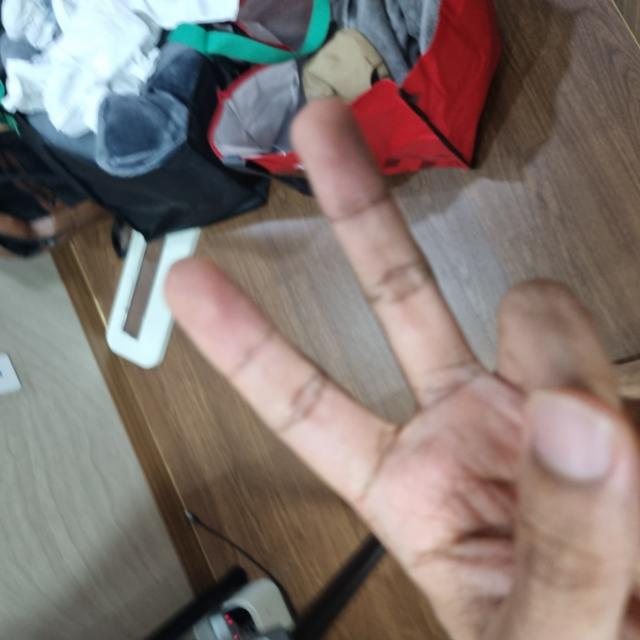Scissors: (0, 164, 545, 638)
